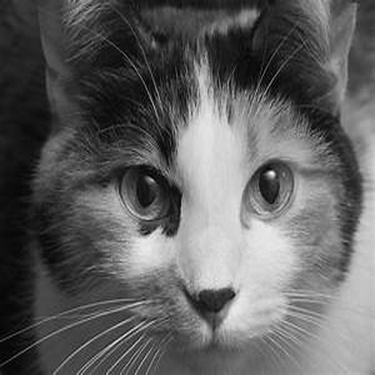cat: (31, 2, 370, 370)
